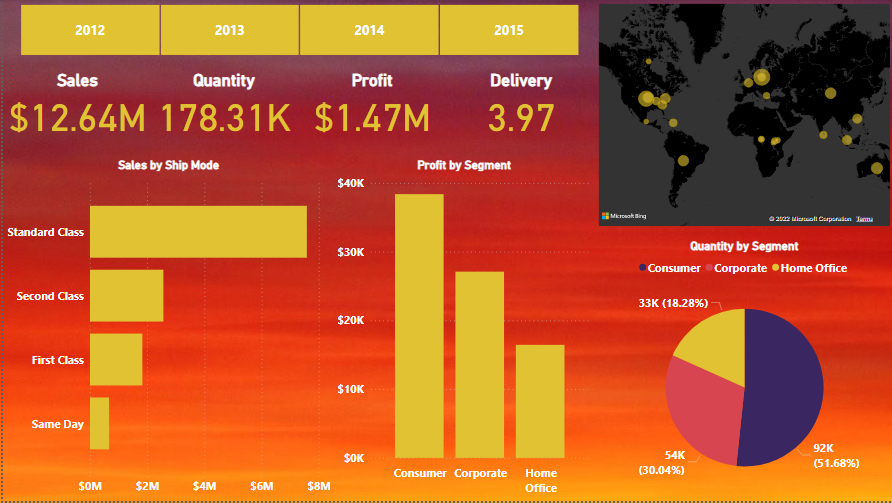

The dashboard page shown, as its layout file describes it:
{"tool":"powerbi","page":{"name":"Page 1","canvas":[1280,720],"ordinal":0},"visuals":[{"type":"card","title":"Sales","fields":{"Values":["Sum(Orders.Sales)"]},"box":[0,101.8,213.9,93.2],"z":0},{"type":"card","title":"Quantity","fields":{"Values":["Sum(Orders.Quantity)"]},"box":[213.9,101.8,207,93.2],"z":1000},{"type":"card","title":"Profit","fields":{"Values":["Sum(Orders.Profit)"]},"box":[420.9,101.8,219.1,93.2],"z":2000},{"type":"card","title":"Delivery","fields":{"Values":["Avg(Orders.Delivery Days)"]},"box":[640,101.8,210.5,93.2],"z":3000},{"type":"slicer","fields":{"Values":["Orders.Year"]},"box":[0,0,850.8,86.2],"z":4000},{"type":"map","fields":{"Size":["Sum(Orders.Quantity)"],"Category":["Orders.Region"]},"box":[851,0,429,330.2],"z":5000},{"type":"clusteredColumnChart","fields":{"Category":["Orders.Segment"],"Y":["Sum(Orders.Profit)"]},"box":[476.1,227.7,374.3,491.6],"z":6000},{"type":"pieChart","fields":{"Category":["Orders.Segment"],"Y":["Sum(Orders.Quantity)"]},"box":[850.5,343.3,429.5,376.1],"z":7000},{"type":"clusteredBarChart","fields":{"Category":["Orders.Ship Mode"],"Y":["Sum(Orders.Sales)"]},"box":[0,227.7,476.1,491.6],"z":8000}]}

Visuals, with their boxes in screenshot pixels (x1, y1, x2, y2), scaled from the page's 1280x720 canvas onto the 892x503 screenshot:
"Sales" card: [0, 71, 149, 136]
"Quantity" card: [149, 71, 293, 136]
"Profit" card: [293, 71, 446, 136]
"Delivery" card: [446, 71, 593, 136]
slicer - Orders.Year: [0, 0, 593, 60]
map - Sum(Orders.Quantity) x Orders.Region: [593, 0, 891, 231]
clusteredColumnChart - Orders.Segment x Sum(Orders.Profit): [332, 159, 593, 502]
pieChart - Orders.Segment x Sum(Orders.Quantity): [593, 240, 891, 502]
clusteredBarChart - Orders.Ship Mode x Sum(Orders.Sales): [0, 159, 332, 502]
